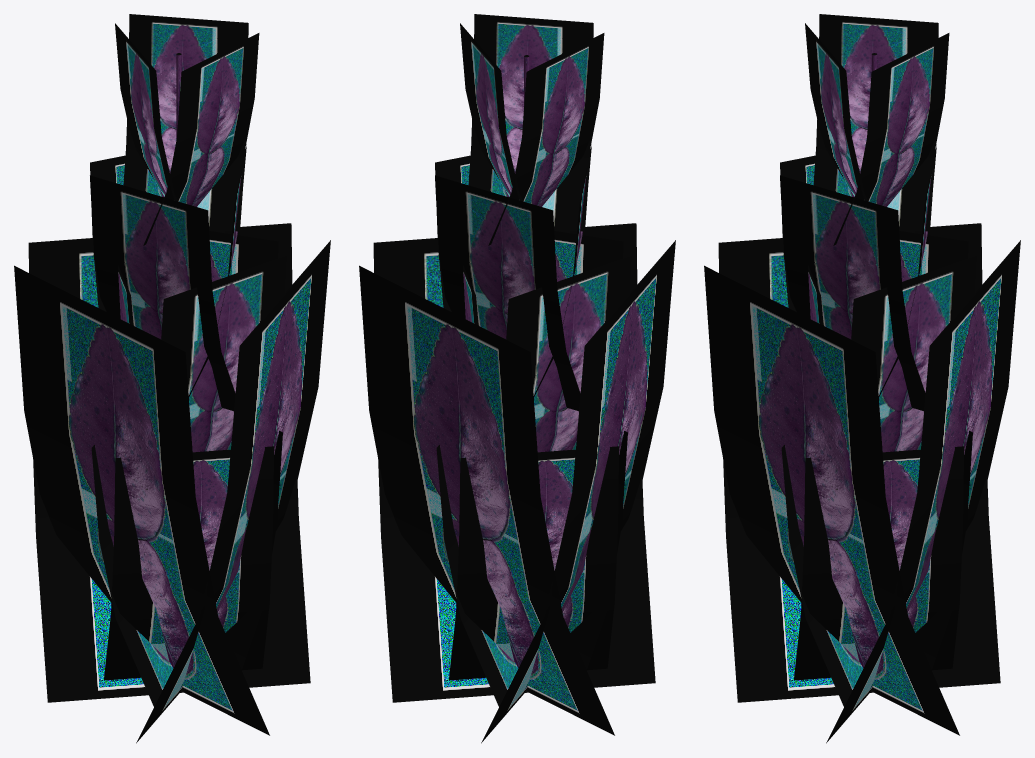
The model's file is vegetation2.FBX.
3 views of the same model, side by side, from view 1: azimuth 30°, elevation 25°; view 2: azimuth 150°, elevation 25°; view 3: azimuth 270°, elevation 25° (orthographic).
Visible parts, largest first — view 1: Plane074; view 2: Plane074; view 3: Plane074.
Part boxes in pixels (x1,y1,x2,y2): Plane074: (14,14,330,743); Plane074: (359,14,675,743); Plane074: (704,14,1020,743).
Bounding box in the file's own units: 98.27 × 232 × 102.
Materials: 2 (2 with a texture image).
